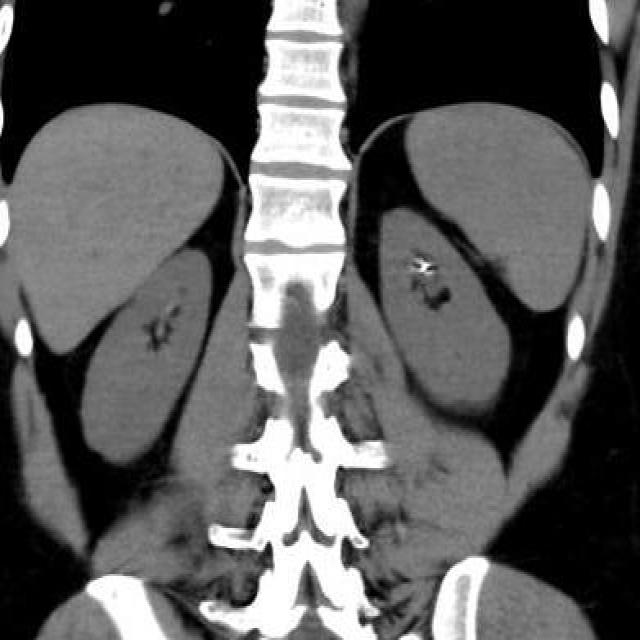Tas_Var: (419, 261, 432, 275)
